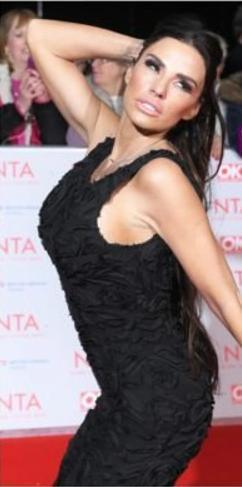Drunk: (132, 41, 198, 131)
